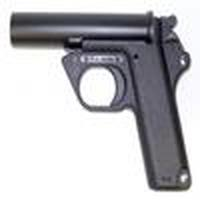gun: (9, 10, 196, 198)
